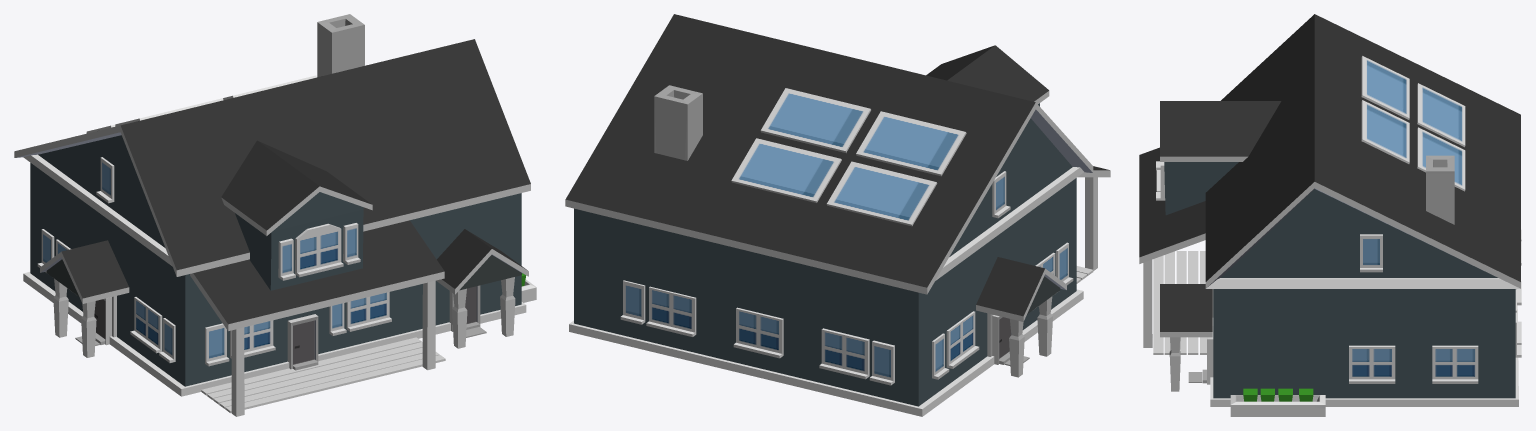
Rendered from Suburb House 3.fbx.
3 views of the same model, side by side, from view 1: azimuth 30°, elevation 25°; view 2: azimuth 150°, elevation 25°; view 3: azimuth 270°, elevation 25° (orthographic). The views are drawn at different scales.
Visible parts, largest first — view 1: Suburb House 3; view 2: Suburb House 3; view 3: Suburb House 3.
Part boxes in pixels (bbox=[...]): Suburb House 3: bbox=[14, 14, 536, 416]; Suburb House 3: bbox=[565, 14, 1110, 416]; Suburb House 3: bbox=[1139, 14, 1521, 416].
Bounding box in the file's own units: 7.19 × 3.94 × 6.03.
